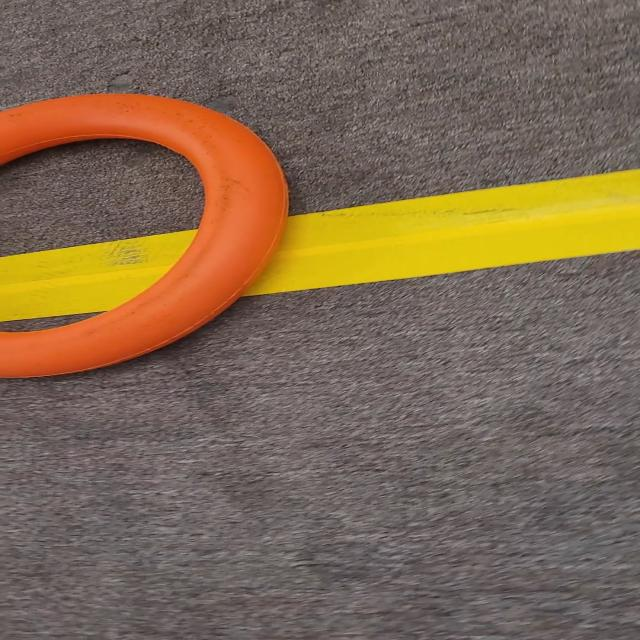note: (0, 92, 310, 378)
